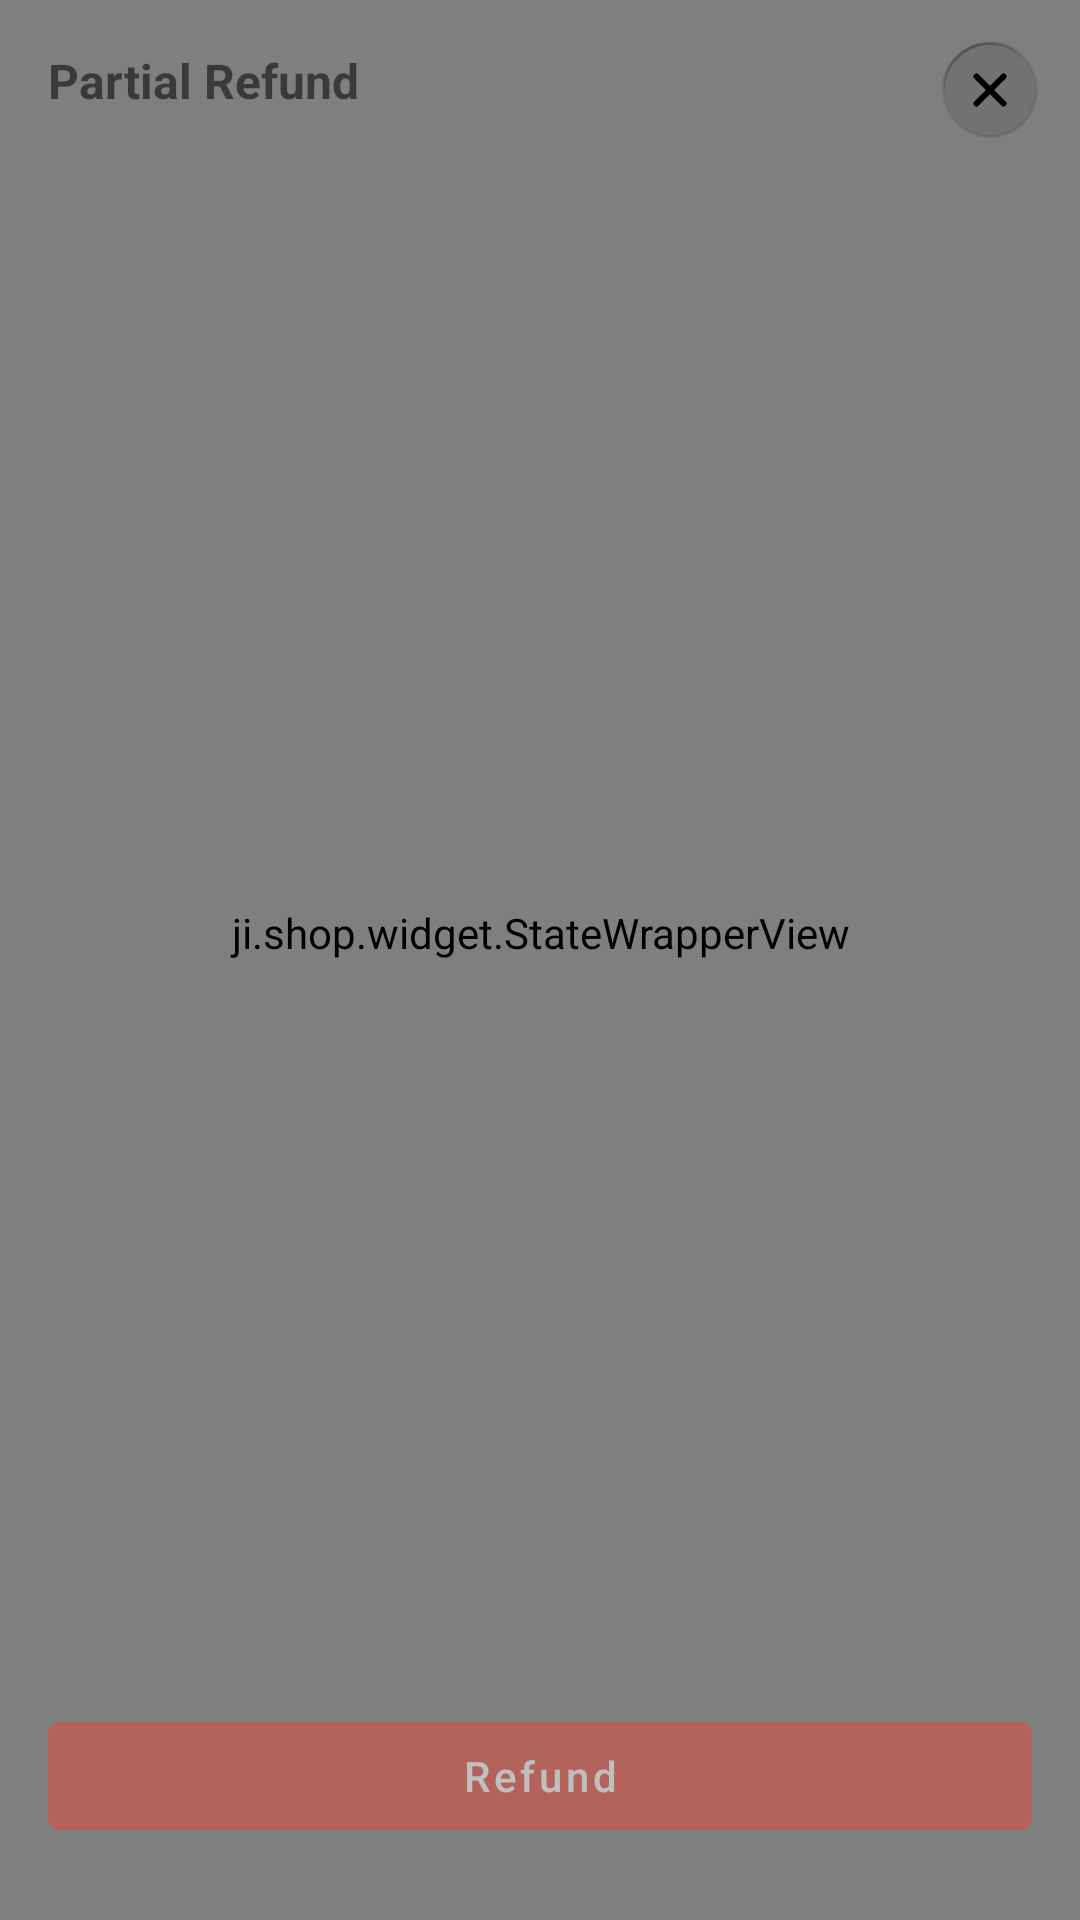

Icons on this 1080px x 1920px Android screen, each with its box as (x1, y1, x2, y2):
close: (942, 42, 1037, 138)
